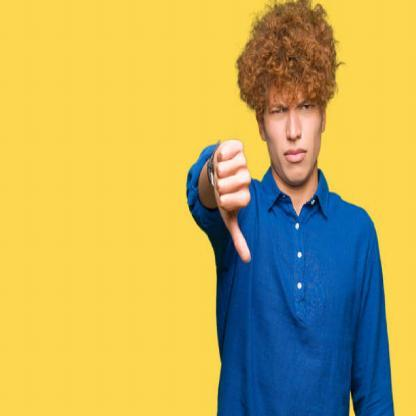thumb_down: (207, 130, 261, 268)
